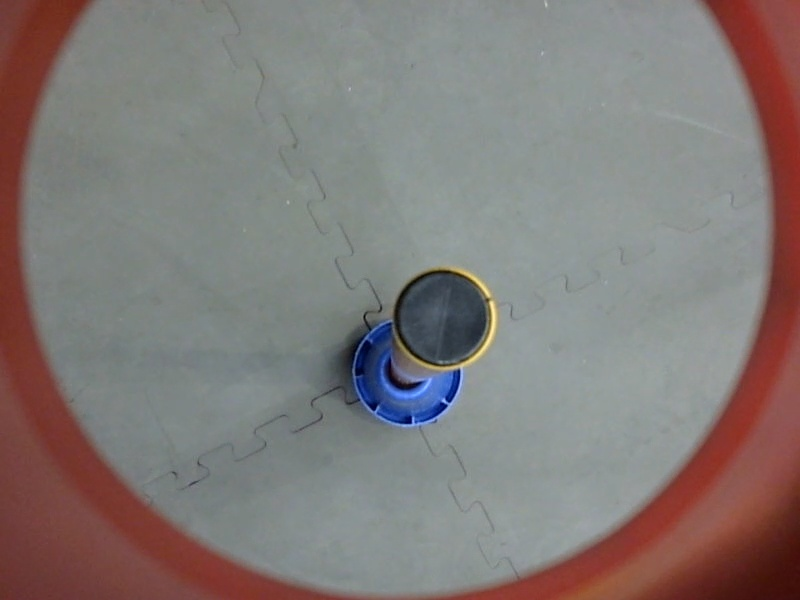tip: (387, 263, 503, 375)
